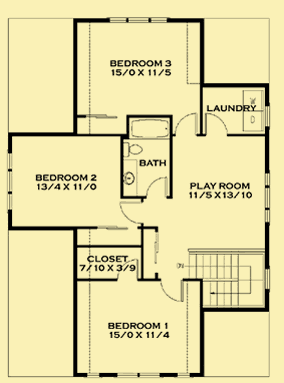door: (118, 199, 145, 226), (157, 279, 186, 304), (116, 258, 140, 284), (205, 113, 229, 138), (143, 175, 169, 197), (176, 112, 199, 135)
large_sink: (122, 142, 144, 159)
small_sink: (122, 160, 141, 195)
stairs: (188, 247, 264, 308)
tub: (127, 116, 170, 139)
window: (263, 172, 272, 223), (7, 149, 14, 214), (107, 16, 168, 23), (113, 372, 161, 379)
